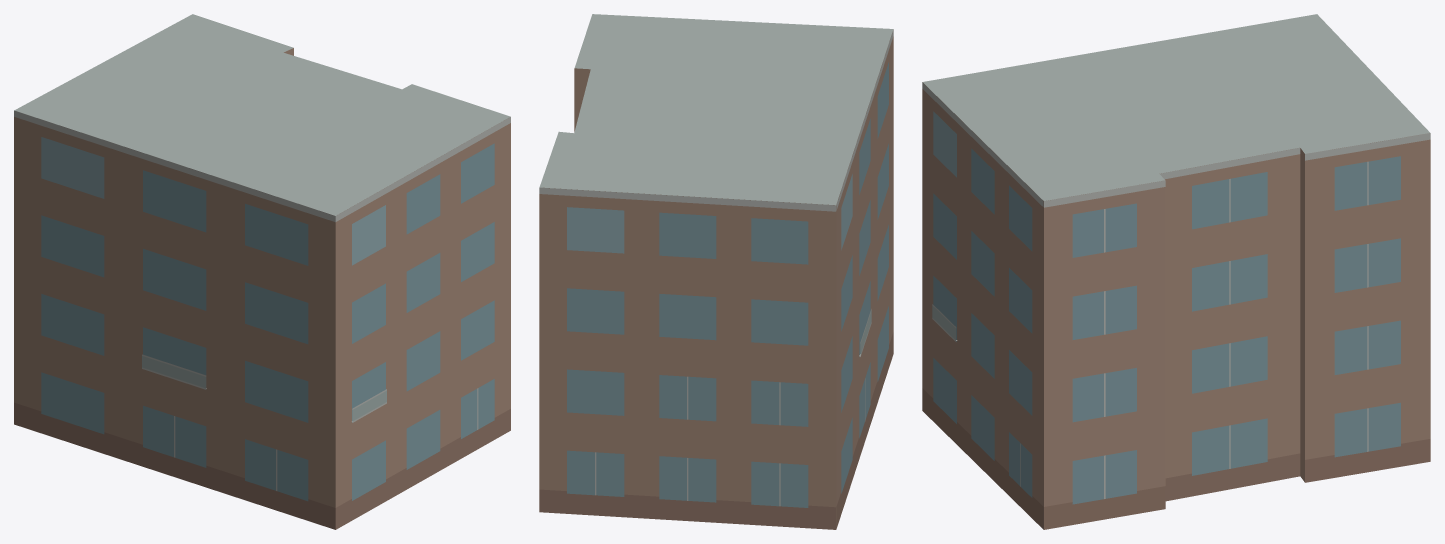
The model's file is survey-upis-32466067.glb.
The picture shows the model from 3 angles, left to right: view 1: azimuth 30°, elevation 25°; view 2: azimuth 150°, elevation 25°; view 3: azimuth 270°, elevation 25°; orthographic projection. The views are drawn at different scales.
Parts seen in each view (by area): view 1: survey-upis-32466067.tmp; view 2: survey-upis-32466067.tmp; view 3: survey-upis-32466067.tmp.
Boxes of the visible parts, box(x1,y1,x2,y2) form: survey-upis-32466067.tmp: box(14, 14, 510, 529); survey-upis-32466067.tmp: box(539, 14, 893, 529); survey-upis-32466067.tmp: box(922, 14, 1430, 529).
Bounding box in the file's own units: 14.91 × 12.2 × 17.1.
